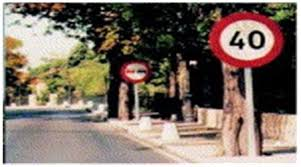sp40: (211, 12, 279, 66)
